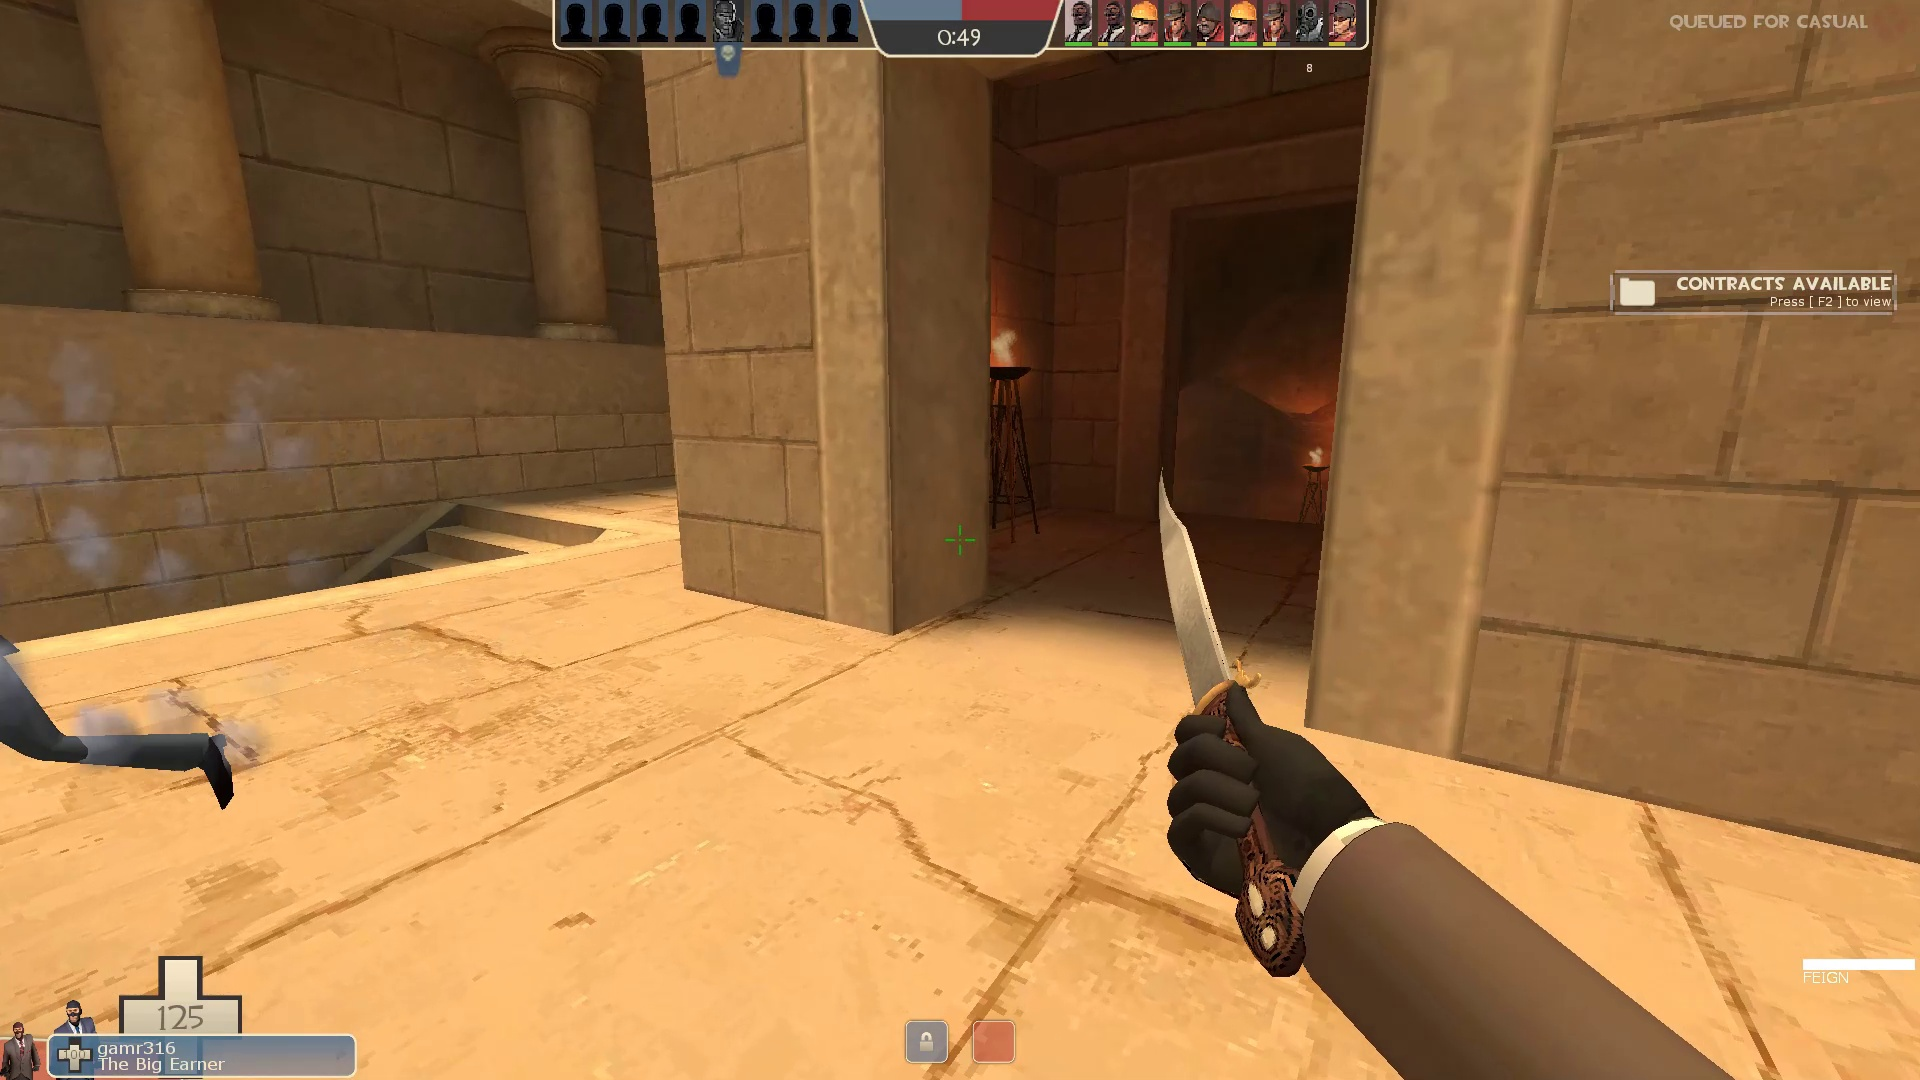blu_spy: (1, 563, 260, 836)
